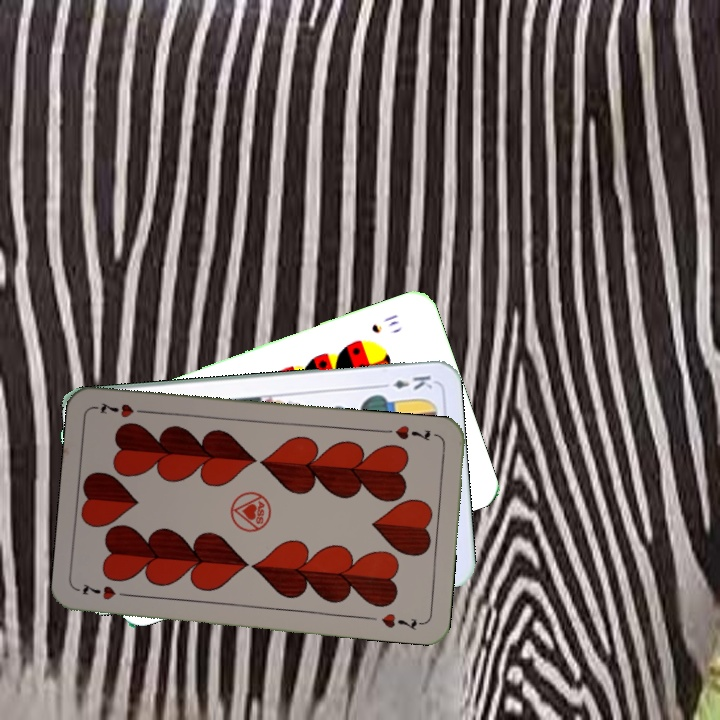EK: (376, 371, 435, 392)
H7: (79, 580, 135, 603), (391, 421, 433, 444)
S10: (367, 310, 401, 336)
